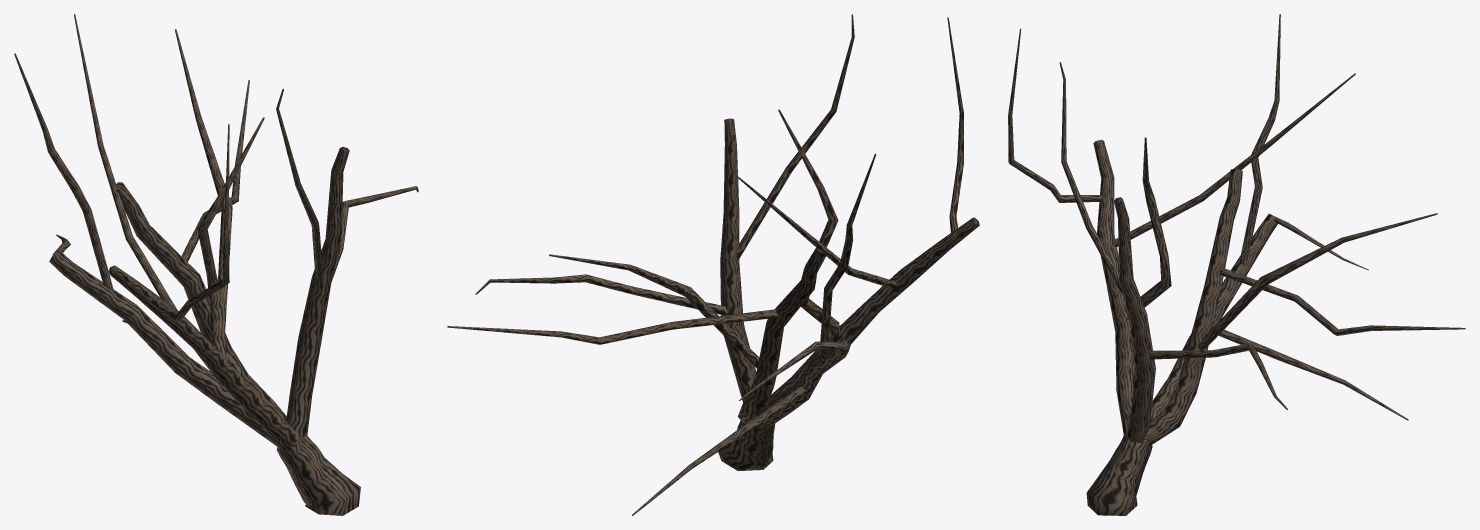
File: dead_standing-a.lod1.glb
3 renders of one model, left to right at view 1: azimuth 30°, elevation 25°; view 2: azimuth 150°, elevation 25°; view 3: azimuth 270°, elevation 25°, orthographic. The views are drawn at different scales.
Visible parts, largest first — view 1: bark; view 2: bark; view 3: bark.
Part boxes in pixels (<box>): bark: <box>14,14,418,515</box>; bark: <box>447,14,979,515</box>; bark: <box>1008,14,1465,515</box>.
Bounding box in the file's own units: 7.57 × 8 × 8.07.
1 material, 1 textured.
